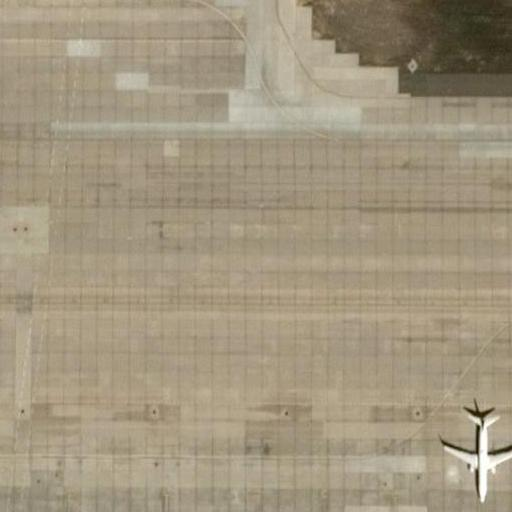Aircraft: (436, 398, 512, 501)
